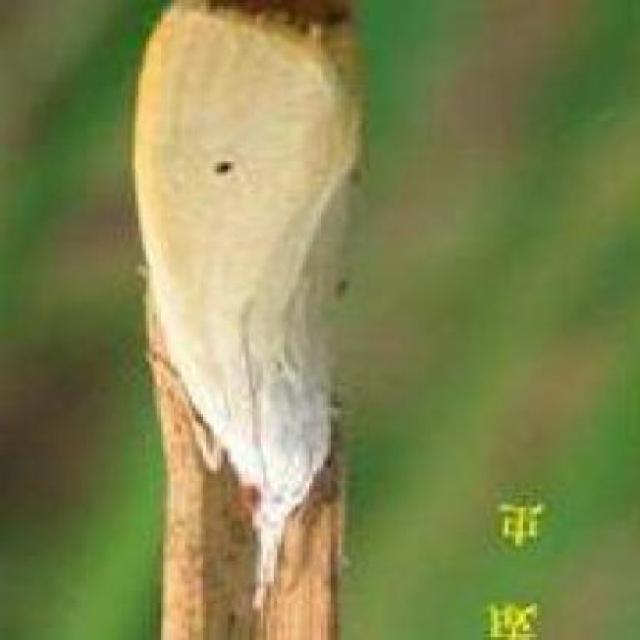stem-borer: (130, 0, 362, 614)
